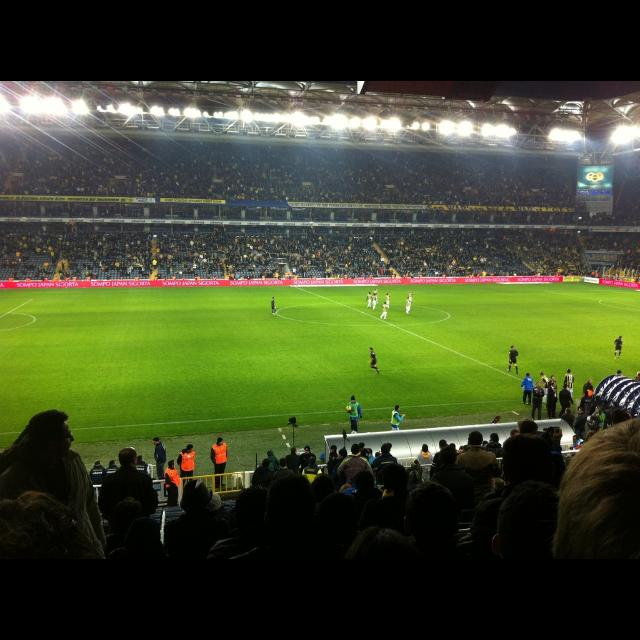Football: (342, 403, 354, 411)
